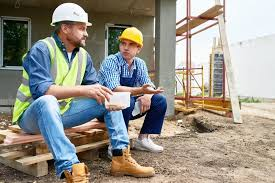hard hat: (49, 2, 91, 26), (118, 27, 144, 47)
high-vis: (13, 36, 88, 122)
